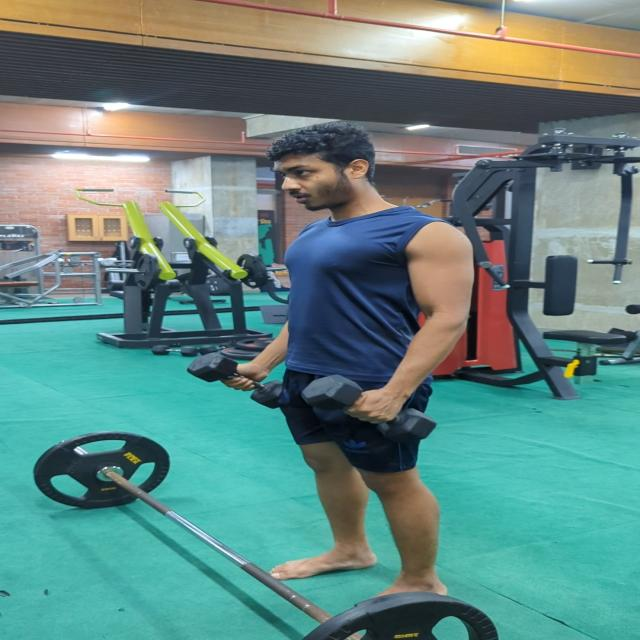Normal_DumbbellBicepCurls: (193, 123, 476, 600)
